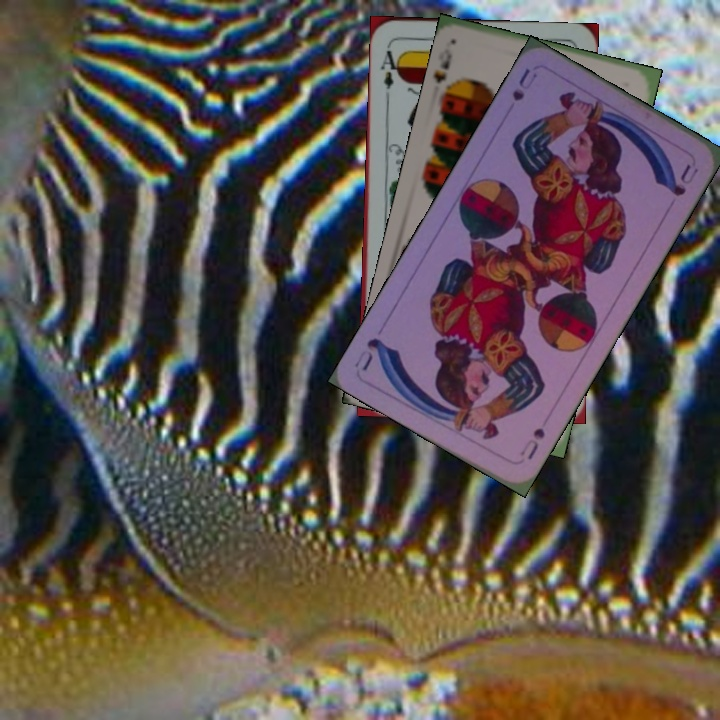EA: (377, 41, 403, 91)
S9: (431, 44, 459, 101)
SU: (508, 64, 540, 104), (516, 423, 548, 462)
